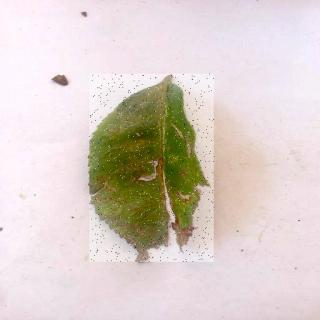Brown Blight: (91, 75, 216, 263)
